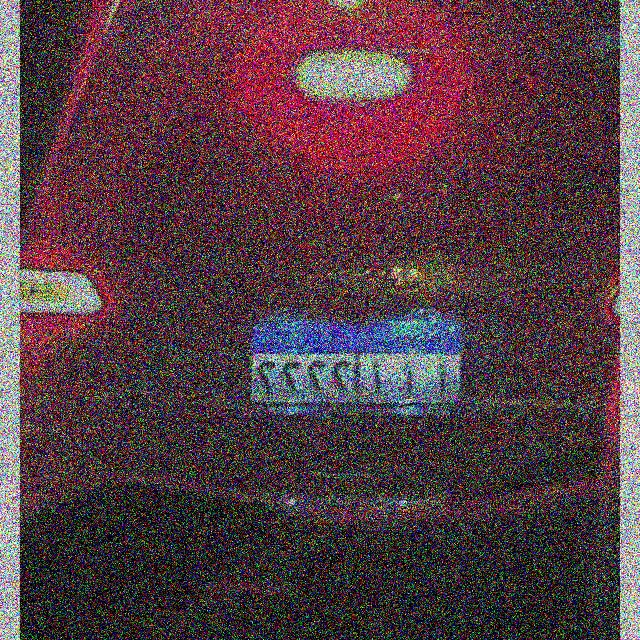License Plate: (247, 317, 465, 408)
